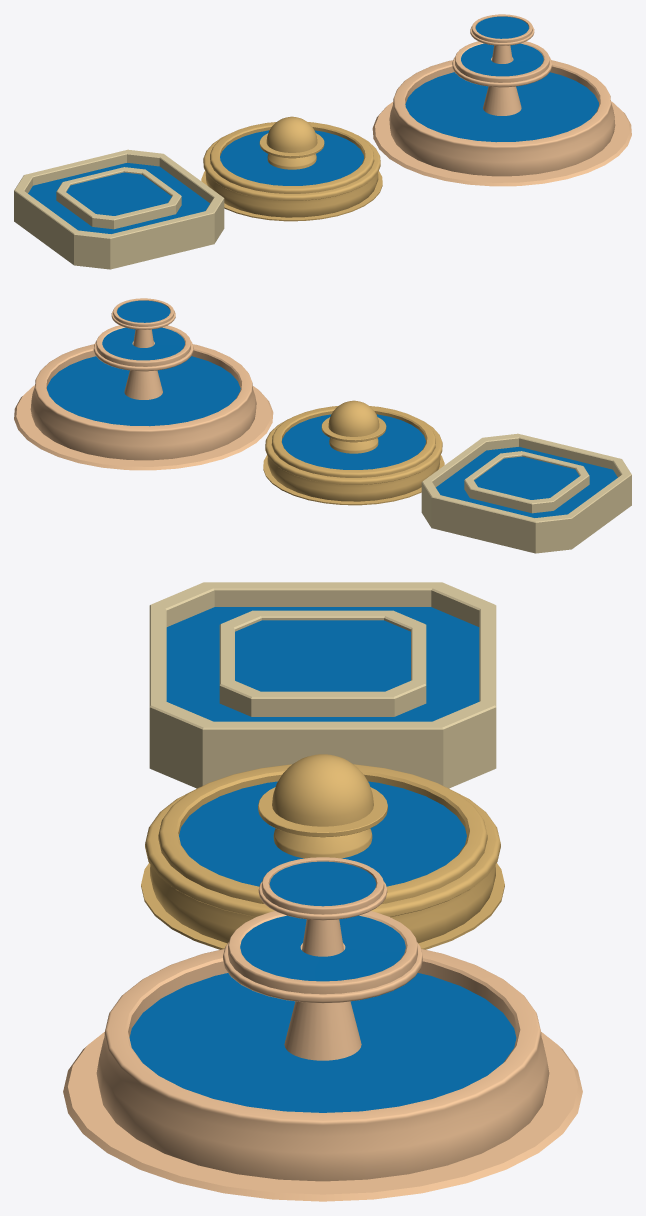
File: Fountains.fbx
3 views of the same model, one above another, from view 1: azimuth 30°, elevation 25°; view 2: azimuth 150°, elevation 25°; view 3: azimuth 270°, elevation 25° (orthographic). The views are drawn at different scales.
Visible parts, largest first — view 1: Fountain_1, Fountain_3, Water_fountain_1, Fountain_2, Water_fountain_3, Water_fountain_2; view 2: Fountain_1, Fountain_3, Water_fountain_1, Fountain_2, Water_fountain_3, Water_fountain_2; view 3: Fountain_1, Water_fountain_1, Fountain_3, Fountain_2, Water_fountain_3, Water_fountain_2.
Boxes of the visible parts, x1,y1,x2,y2 form: Fountain_1: (372,14,631,186); Fountain_3: (14,149,224,269); Water_fountain_1: (405,16,598,142); Fountain_2: (201,116,382,221); Water_fountain_3: (28,163,209,233); Water_fountain_2: (220,130,363,185); Fountain_1: (14,298,273,470); Fountain_3: (421,433,631,553); Water_fountain_1: (47,300,240,426); Fountain_2: (263,400,444,505); Water_fountain_3: (436,447,617,517); Water_fountain_2: (282,414,425,469); Fountain_1: (63,857,582,1201); Water_fountain_1: (129,861,516,1112); Fountain_3: (149,582,496,788); Fountain_2: (141,754,504,949); Water_fountain_3: (166,607,479,721); Water_fountain_2: (179,781,466,886).
Size of the model in its own units: 761 by 133 by 300.
